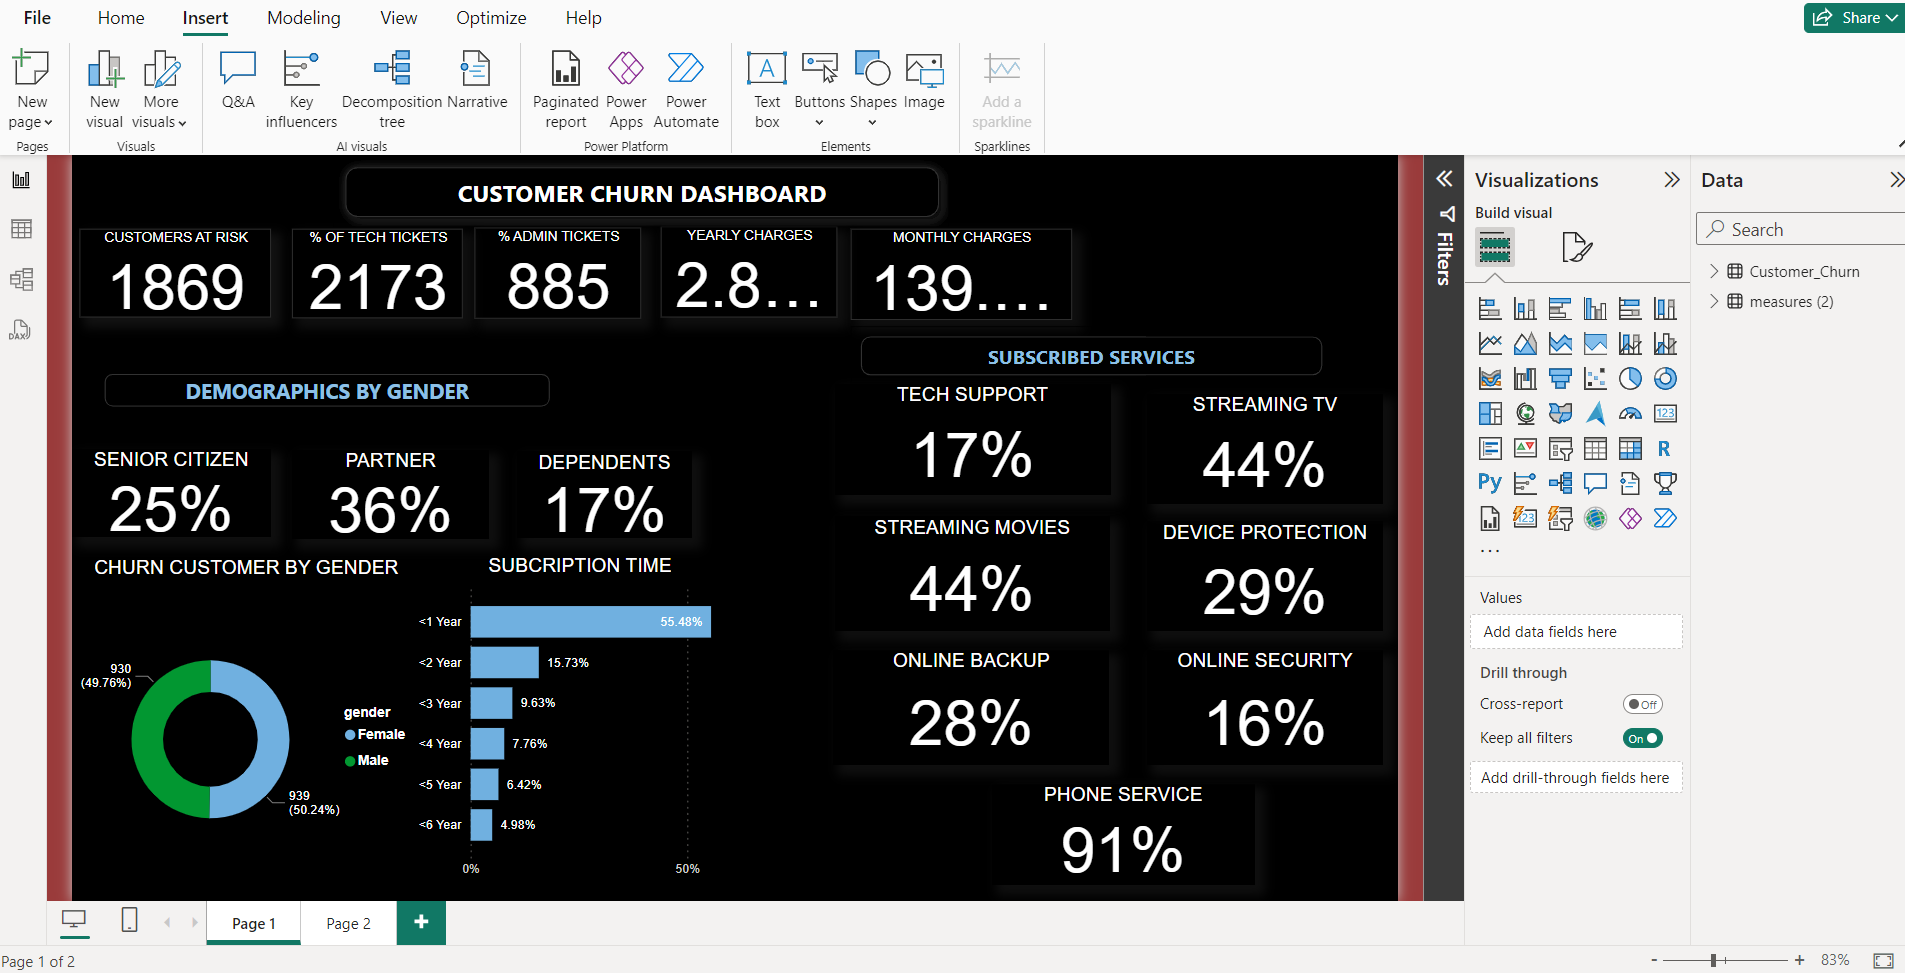

The dashboard page shown, as its layout file describes it:
{"tool":"powerbi","page":{"name":"Page 1","canvas":[1280,720],"ordinal":0},"visuals":[{"type":"donutChart","title":"CHURN CUSTOMER BY GENDER","fields":{"Category":["Customer_Churn.gender"],"Y":["CountNonNull(Customer_Churn.Churn)"]},"box":[0,387.3,336.6,333],"z":0},{"type":"card","title":"TECH SUPPORT","fields":{"Values":["Customer_Churn.PercentageTechSupport"]},"box":[735.9,220.8,266.6,107.4],"z":1000},{"type":"card","title":"STREAMING TV","fields":{"Values":["measures (2).PercentageStreamingTV"]},"box":[1037.4,230.9,227.9,106.7],"z":2000},{"type":"card","title":"STREAMING MOVIES","fields":{"Values":["measures (2).PercentageStreamingMovies"]},"box":[736.4,349.2,265.9,111.1],"z":3000},{"type":"card","title":"DEVICE PROTECTION","fields":{"Values":["measures (2).PercentageDeviceProtect"]},"box":[1037.4,353.6,227.9,106.7],"z":4000},{"type":"card","title":"ONLINE BACKUP","fields":{"Values":["measures (2).PercentageOnlineBackup"]},"box":[734.7,477.8,266.6,111],"z":5000},{"type":"card","title":"SENIOR CITIZEN","fields":{"Values":["Sum(measures (2).senior citizen)"]},"box":[0,283.5,191.8,85.7],"z":6000},{"type":"barChart","title":"SUBCRIPTION TIME","fields":{"Category":["Customer_Churn.Tenure(in years)"],"Y":["CountNonNull(Customer_Churn.Churn)"]},"box":[326.9,386.1,326.9,334.2],"z":7000},{"type":"card","title":"PARTNER","fields":{"Values":["measures (2).partner"]},"box":[212.3,284.7,190.6,85.7],"z":8000},{"type":"card","title":"DEPENDENTS","fields":{"Values":["Sum(measures (2).Dependents)"]},"box":[429.5,285.9,168.9,84],"z":9000},{"type":"card","title":"ONLINE SECURITY","fields":{"Values":["measures (2).online Security"]},"box":[1037.4,477.8,227.9,111.1],"z":10000},{"type":"card","title":"PHONE SERVICE","fields":{"Values":["measures (2).Phone Service"]},"box":[887.9,606.8,253.4,97.7],"z":11000},{"type":"card","title":"% ADMIN TICKETS","fields":{"Values":["Sum(Customer_Churn.numAdminTickets)"]},"box":[388.7,70.1,160.7,87.7],"z":12000},{"type":"card","title":"% OF TECH TICKETS","fields":{"Values":["Sum(Customer_Churn.numTechTickets)"]},"box":[211.9,71.6,165.1,86.2],"z":13000},{"type":"card","title":"YEARLY CHARGES","fields":{"Values":["Sum(Customer_Churn.TotalCharges)"]},"box":[568.2,68.8,170.1,88.1],"z":14000},{"type":"card","title":"MONTHLY CHARGES","fields":{"Values":["Sum(Customer_Churn.MonthlyCharges)"]},"box":[751.1,71.6,213.3,87.7],"z":15000},{"type":"card","title":"CUSTOMERS AT RISK","fields":{"Values":["CountNonNull(Customer_Churn.customerID)"]},"box":[7.2,71.2,184.6,85.7],"z":16000},{"type":"shape","box":[252.1,0,594.8,70],"z":17000},{"type":"shape","box":[21.7,201.5,447.6,49.5],"z":18000},{"type":"shape","box":[751.6,165.3,463.3,55.5],"z":18001}]}

Visuals, with their boxes on the page's 1280x720 design canvas (x1, y1, x2, y2). These are canvas units, not pixel positions in the 1905x973 screenshot, which may show the page scaled, cropped or inside an application window:
"CHURN CUSTOMER BY GENDER" donutChart: BBox(0, 387, 337, 720)
"TECH SUPPORT" card: BBox(736, 221, 1002, 328)
"STREAMING TV" card: BBox(1037, 231, 1265, 338)
"STREAMING MOVIES" card: BBox(736, 349, 1002, 460)
"DEVICE PROTECTION" card: BBox(1037, 354, 1265, 460)
"ONLINE BACKUP" card: BBox(735, 478, 1001, 589)
"SENIOR CITIZEN" card: BBox(0, 284, 192, 369)
"SUBCRIPTION TIME" barChart: BBox(327, 386, 654, 720)
"PARTNER" card: BBox(212, 285, 403, 370)
"DEPENDENTS" card: BBox(430, 286, 598, 370)
"ONLINE SECURITY" card: BBox(1037, 478, 1265, 589)
"PHONE SERVICE" card: BBox(888, 607, 1141, 704)
"% ADMIN TICKETS" card: BBox(389, 70, 549, 158)
"% OF TECH TICKETS" card: BBox(212, 72, 377, 158)
"YEARLY CHARGES" card: BBox(568, 69, 738, 157)
"MONTHLY CHARGES" card: BBox(751, 72, 964, 159)
"CUSTOMERS AT RISK" card: BBox(7, 71, 192, 157)
shape: BBox(252, 0, 847, 70)
shape: BBox(22, 202, 469, 251)
shape: BBox(752, 165, 1215, 221)
